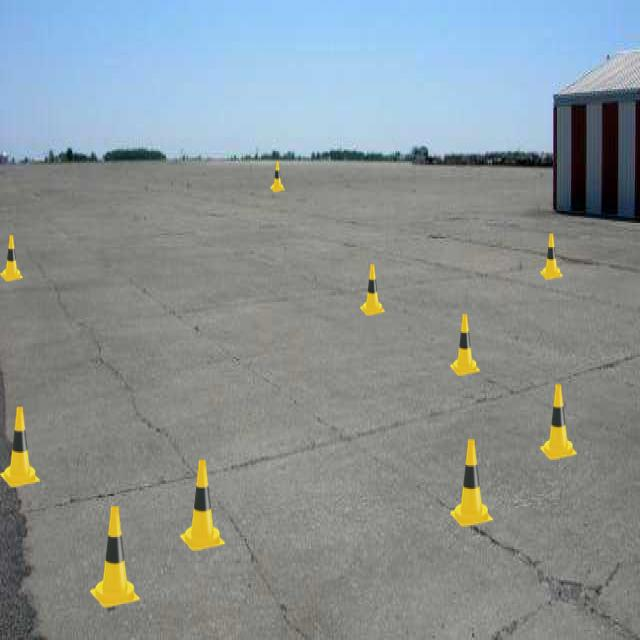yellow_cone: (90, 507, 140, 608), (180, 460, 225, 551), (450, 439, 493, 527), (0, 407, 40, 487), (540, 384, 577, 460), (450, 314, 480, 376), (360, 264, 385, 316), (540, 233, 563, 280), (0, 235, 23, 281), (270, 161, 285, 192)
